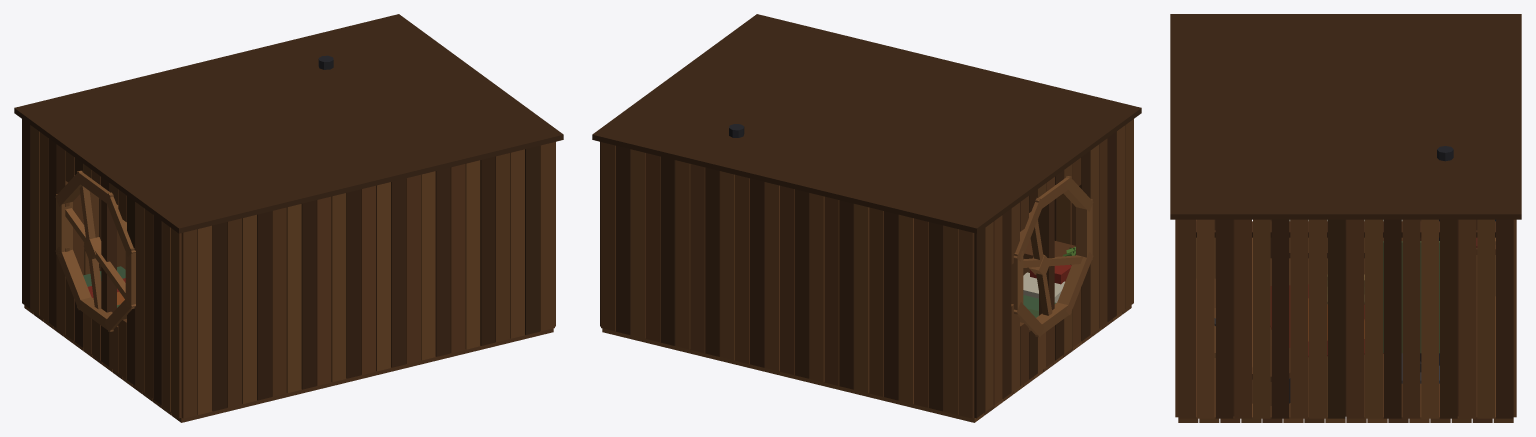
The model's file is cabin_a.glb.
The picture shows the model from 3 angles, left to right: view 1: azimuth 30°, elevation 25°; view 2: azimuth 150°, elevation 25°; view 3: azimuth 270°, elevation 25°; orthographic projection. The views are drawn at different scales.
Visible parts, largest first — view 1: cabin_a_ceiling, cabin_a_wallB_00_0.001, cabin_a_wallB_02_0.001, cabin_a_wallB_07_0.001, cabin_a_wallB_08_0.001, cabin_a_wallB_10_0.001, cabin_a_wallB_11_0.001, cabin_a_wallB_17_0.001, cabin_a_wallB_21_0.001, cabin_a_wallB_01_0.001, cabin_a_wallB_09_0.001, cabin_a_wallB_18_0.001 (+36 smaller); view 2: cabin_a_ceiling, cabin_a_wallB_00_0, cabin_a_wallB_02_0, cabin_a_wallB_07_0, cabin_a_wallB_08_0, cabin_a_wallB_10_0, cabin_a_wallB_11_0, cabin_a_wallB_17_0, cabin_a_wallB_21_0, cabin_a_wallB_01_0, cabin_a_wallB_09_0, cabin_a_wallB_18_0 (+35 smaller); view 3: cabin_a_ceiling, cabin_a_wallR_06_0, cabin_a_wallR_08_0, cabin_a_wallR_09_0, cabin_a_wallR_11_0, cabin_a_wallR_02_0, cabin_a_wallR_05_0, cabin_a_wallR_12_0, cabin_a_wallR_15_0, cabin_a_wallR_00_0, cabin_a_wallR_01_0, cabin_a_wallR_03_0 (+14 smaller).
Boxes of the visible parts, bbox=[...] form: cabin_a_ceiling: bbox=[14, 14, 563, 233]; cabin_a_wallB_00_0.001: bbox=[181, 229, 197, 418]; cabin_a_wallB_02_0.001: bbox=[212, 222, 227, 411]; cabin_a_wallB_07_0.001: bbox=[286, 204, 301, 393]; cabin_a_wallB_08_0.001: bbox=[301, 200, 316, 389]; cabin_a_wallB_10_0.001: bbox=[331, 193, 346, 382]; cabin_a_wallB_11_0.001: bbox=[346, 189, 361, 378]; cabin_a_wallB_17_0.001: bbox=[435, 167, 450, 356]; cabin_a_wallB_21_0.001: bbox=[495, 153, 510, 342]; cabin_a_wallB_01_0.001: bbox=[197, 225, 212, 414]; cabin_a_wallB_09_0.001: bbox=[316, 196, 331, 385]; cabin_a_wallB_18_0.001: bbox=[450, 164, 465, 353]; cabin_a_ceiling: bbox=[592, 14, 1141, 233]; cabin_a_wallB_00_0: bbox=[958, 229, 974, 418]; cabin_a_wallB_02_0: bbox=[928, 222, 943, 411]; cabin_a_wallB_07_0: bbox=[854, 204, 869, 393]; cabin_a_wallB_08_0: bbox=[839, 200, 854, 389]; cabin_a_wallB_10_0: bbox=[809, 193, 824, 382]; cabin_a_wallB_11_0: bbox=[794, 189, 809, 378]; cabin_a_wallB_17_0: bbox=[705, 167, 720, 356]; cabin_a_wallB_21_0: bbox=[645, 153, 660, 342]; cabin_a_wallB_01_0: bbox=[943, 225, 958, 414]; cabin_a_wallB_09_0: bbox=[824, 196, 839, 385]; cabin_a_wallB_18_0: bbox=[690, 164, 705, 353]; cabin_a_ceiling: bbox=[1170, 14, 1521, 219]; cabin_a_wallR_06_0: bbox=[1290, 219, 1308, 418]; cabin_a_wallR_08_0: bbox=[1327, 219, 1345, 418]; cabin_a_wallR_09_0: bbox=[1346, 219, 1364, 418]; cabin_a_wallR_11_0: bbox=[1383, 219, 1401, 418]; cabin_a_wallR_02_0: bbox=[1215, 219, 1233, 418]; cabin_a_wallR_05_0: bbox=[1271, 219, 1289, 418]; cabin_a_wallR_12_0: bbox=[1402, 219, 1420, 418]; cabin_a_wallR_15_0: bbox=[1458, 219, 1476, 418]; cabin_a_wallR_00_0: bbox=[1178, 219, 1195, 418]; cabin_a_wallR_01_0: bbox=[1197, 219, 1214, 418]; cabin_a_wallR_03_0: bbox=[1234, 219, 1251, 418].
Size of the model in its own units: 6.2 by 3.18 by 4.6.
